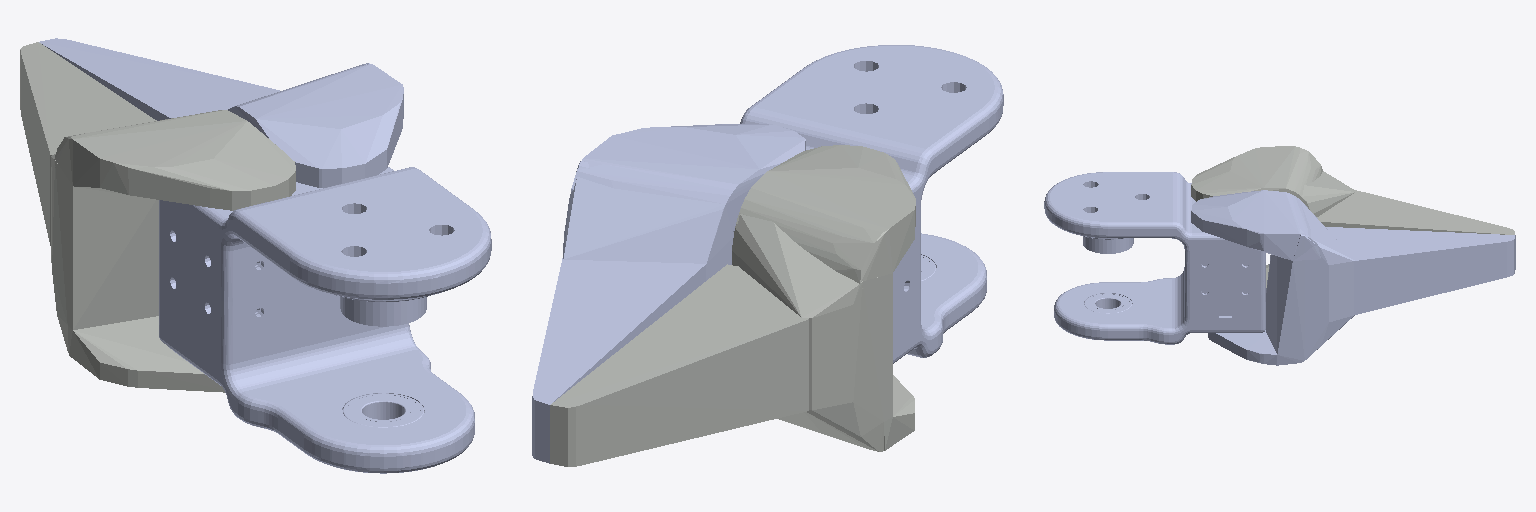
URDF robot description (gripper_urdf):
<?xml version="1.0" encoding="utf-8"?>
<!-- This URDF was automatically created by SolidWorks to URDF Exporter! Originally created by [author] ([email redacted]) 
     Commit Version: 1.6.0-4-g7f85cfe  Build Version: 1.6.7995.38578
     For more information, please see http://wiki.ros.org/sw_urdf_exporter -->
<robot
  name="gripper_urdf">
  <link
    name="base_link">
    <inertial>
      <origin
        xyz="2.71050543121376E-19 -6.93889390390723E-18 0.005"
        rpy="0 0 0" />
      <mass
        value="0.00314159265358979" />
      <inertia
        ixx="1.0471975511966E-07"
        ixy="6.89317177127507E-25"
        ixz="-1.45452021568228E-38"
        iyy="1.0471975511966E-07"
        iyz="-4.41162993361615E-24"
        izz="1.5707963267949E-07" />
    </inertial>
    <visual>
      <origin
        xyz="0 0 0"
        rpy="0 0 0" />
      <geometry>
        <mesh
          filename="package://gripper_urdf/meshes/base_link.STL" />
      </geometry>
      <material
        name="">
        <color
          rgba="0.792156862745098 0.819607843137255 0.933333333333333 1" />
      </material>
    </visual>
    <collision>
      <origin
        xyz="0 0 0"
        rpy="0 0 0" />
      <geometry>
        <mesh
          filename="package://gripper_urdf/meshes/base_link.STL" />
      </geometry>
    </collision>
  </link>
  <link
    name="link6">
    <inertial>
      <origin
        xyz="0.00013661 0.032632 -0.015041"
        rpy="0 0 0" />
      <mass
        value="0.10024" />
      <inertia
        ixx="3.6405E-05"
        ixy="2.2542E-07"
        ixz="-1.3425E-07"
        iyy="2.5551E-05"
        iyz="-4.2981E-07"
        izz="4.9498E-05" />
    </inertial>
    <visual>
      <origin
        xyz="0 0 0"
        rpy="0 0 0" />
      <geometry>
        <mesh
          filename="package://gripper_urdf/meshes/link6.STL" />
      </geometry>
      <material
        name="">
        <color
          rgba="0.79216 0.81961 0.93333 1" />
      </material>
    </visual>
    <collision>
      <origin
        xyz="0 0 0"
        rpy="0 0 0" />
      <geometry>
        <mesh
          filename="package://gripper_urdf/cvx/7_coacd/link6.obj" />
      </geometry>
    </collision>
  </link>
  <joint
    name="joint6"
    type="revolute">
    <origin
      xyz="0 0 0.01"
      rpy="0 0 0" />
    <parent
      link="base_link" />
    <child
      link="link6" />
    <axis
      xyz="0 0 1" />
    <limit
      lower="0"
      upper="0"
      effort="0"
      velocity="0" />
  </joint>
  <link
    name="finger1_link">
    <inertial>
      <origin
        xyz="0.00715155519277111 0.0317897449447876 -0.022639994299902"
        rpy="0 0 0" />
      <mass
        value="0.0434439521158079" />
      <inertia
        ixx="1.61853165636498E-05"
        ixy="-8.29742557186773E-07"
        ixz="2.83702473101179E-08"
        iyy="7.96070872508349E-06"
        iyz="2.10305920009734E-07"
        izz="1.59719393438006E-05" />
    </inertial>
    <visual>
      <origin
        xyz="0 0 0"
        rpy="0 0 0" />
      <geometry>
        <mesh
          filename="package://gripper_urdf/meshes/finger1_link.obj" />
      </geometry>
      <material
        name="">
        <color
          rgba="0.792156862745098 0.819607843137255 0.933333333333333 1" />
      </material>
    </visual>
    <collision>
      <origin
        xyz="0 0 0"
        rpy="0 0 0" />
      <geometry>
        <mesh
          filename="package://gripper_urdf/meshes/finger1_link.obj" />
      </geometry>
    </collision>
  </link>
  <joint
    name="finger1_joint"
    type="revolute">
    <origin
      xyz="0.01225 0.046 0.009"
      rpy="0 0 0" />
    <parent
      link="link6" />
    <child
      link="finger1_link" />
    <axis
      xyz="0 0 1" />
    <limit
      lower="0"
      upper="0"
      effort="0"
      velocity="0" />
  </joint>
  <link
    name="finger2_link">
    <inertial>
      <origin
        xyz="-0.0071525 0.031874 -0.022696"
        rpy="0 0 0" />
      <mass
        value="0.043258" />
      <inertia
        ixx="1.6034E-05"
        ixy="7.6046E-07"
        ixz="-9.2887E-09"
        iyy="7.9067E-06"
        iyz="1.7744E-07"
        izz="1.5799E-05" />
    </inertial>
    <visual>
      <origin
        xyz="0 0 0"
        rpy="0 0 0" />
      <geometry>
        <mesh
          filename="package://gripper_urdf/meshes/finger2_link.obj" />
      </geometry>
      <material
        name="">
        <color
          rgba="0.75686 0.76863 0.75294 1" />
      </material>
    </visual>
    <collision>
      <origin
        xyz="0 0 0"
        rpy="0 0 0" />
      <geometry>
        <mesh
          filename="package://gripper_urdf/meshes/finger2_link.obj" />
      </geometry>
    </collision>
  </link>
  <joint
    name="finger2_joint"
    type="revolute">
    <origin
      xyz="-0.01225 0.046 0.009"
      rpy="0 0 0" />
    <parent
      link="link6" />
    <child
      link="finger2_link" />
    <axis
      xyz="0 0 1" />
    <limit
      lower="0"
      upper="0"
      effort="0"
      velocity="0" />
  </joint>
</robot>

--- Facts derived from the render (not from the file) ---
3 views of the same robot in one strip: view 1: azimuth 30°, elevation 25°; view 2: azimuth 150°, elevation 25°; view 3: azimuth 270°, elevation 25° (orthographic).
Robot: gripper_urdf — 4 links, 3 joints (3 revolute); root link base_link; default pose: all joints at 0.
Links seen in each view (by area): view 1: link6, finger2_link, finger1_link, base_link; view 2: finger2_link, finger1_link, link6; view 3: finger1_link, link6, finger2_link, base_link.
Boxes of the visible links, <box> form: link6: <box>159,167,491,473</box>; finger2_link: <box>20,42,295,392</box>; finger1_link: <box>39,38,403,187</box>; base_link: <box>340,297,426,326</box>; finger2_link: <box>550,145,915,466</box>; finger1_link: <box>532,124,805,463</box>; link6: <box>740,45,1003,363</box>; finger1_link: <box>1191,190,1515,365</box>; link6: <box>1044,172,1265,344</box>; finger2_link: <box>1191,146,1514,287</box>; base_link: <box>1083,237,1133,253</box>.
Bounding box of the posed robot: 0.0828 × 0.185 × 0.0575 m (x, y, z).
Meshes: 4 distinct files referenced, 4 mesh visuals loaded (2 binary STL, 2 OBJ).